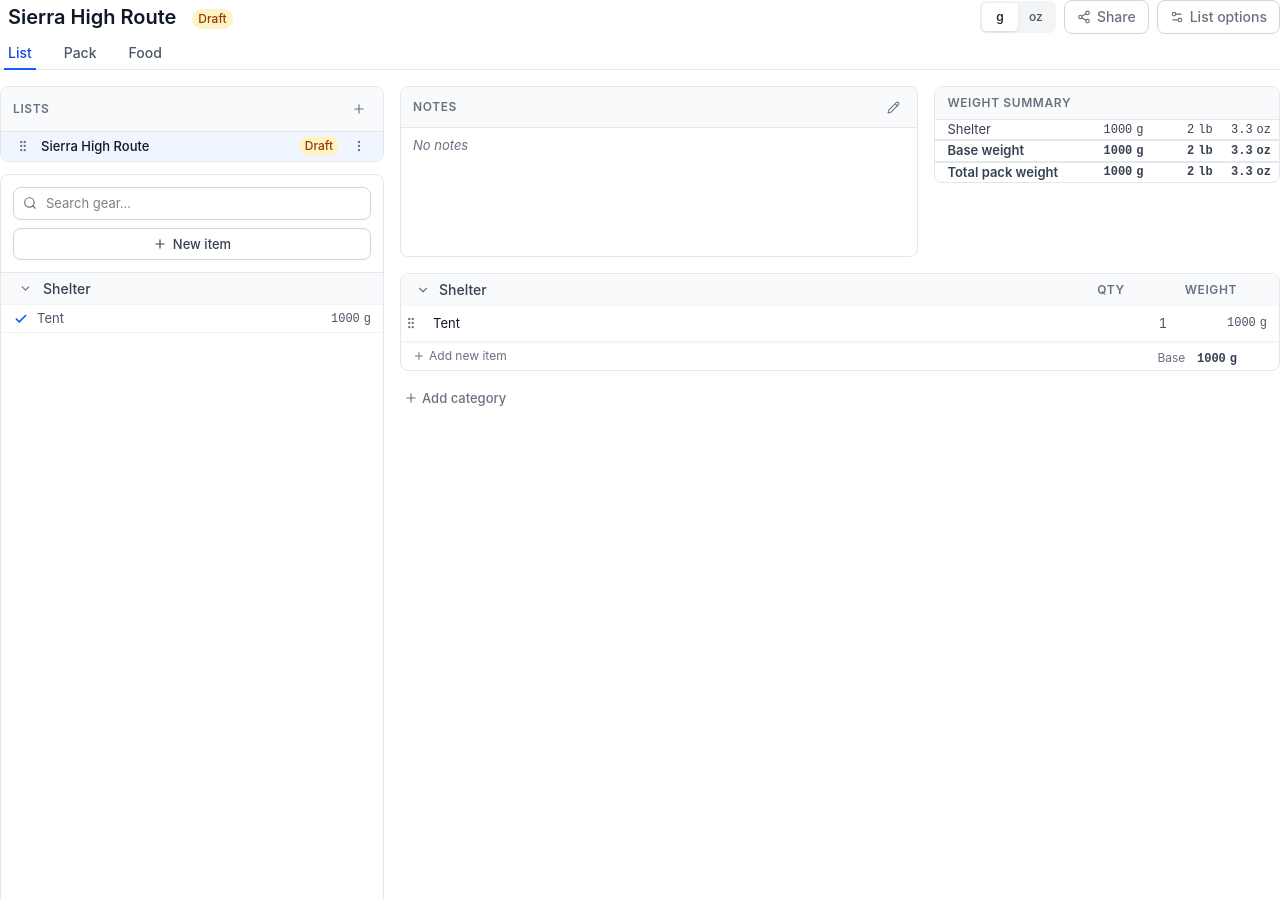
Test case: the phone row tap editor › opens the compact editor, not the inventory form, and More details reaches the full form
Click the button with aria-label "Edit Tent" at (446, 323), box 433,314 -> 1267,333
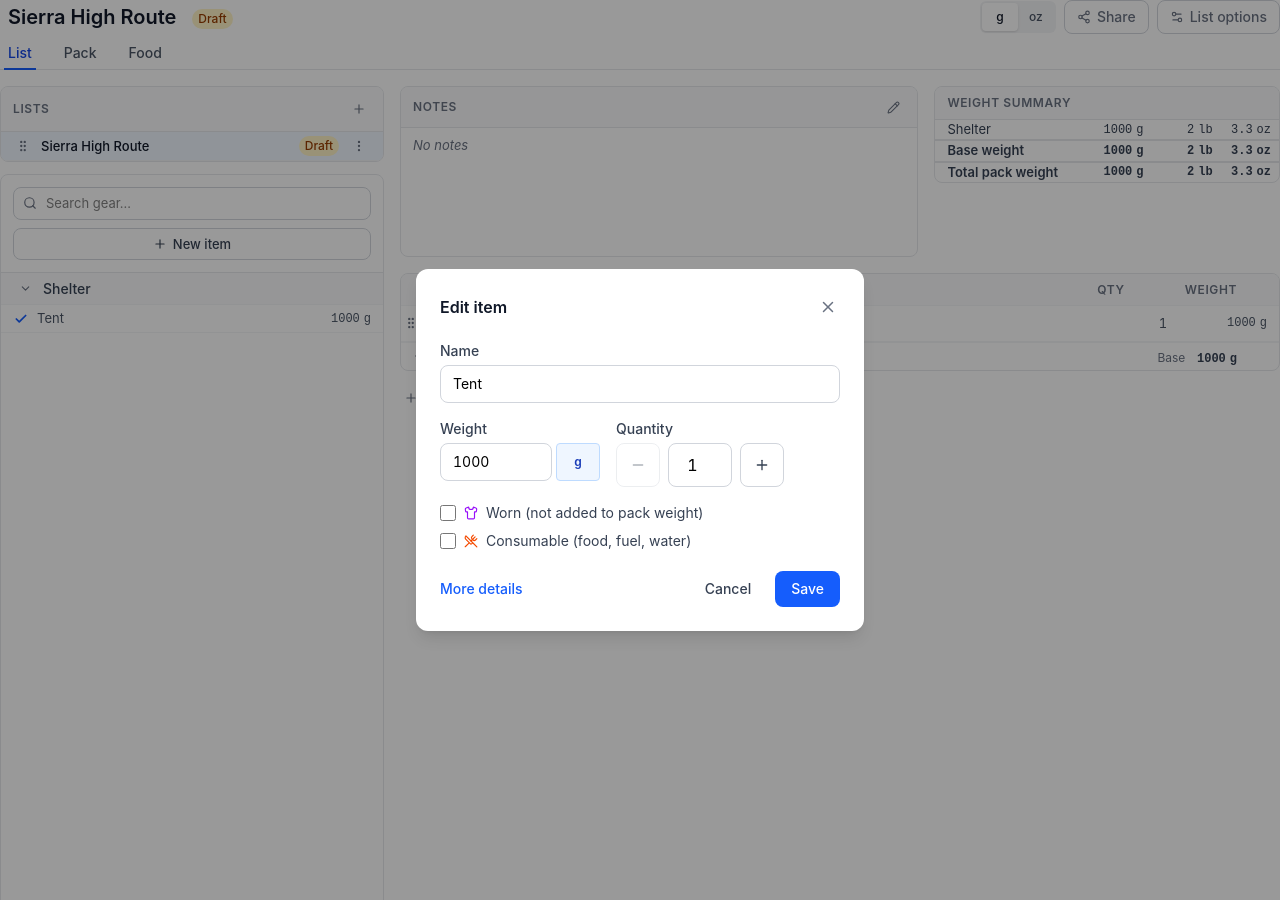
Now the heading "Edit item" is shown, box 440,295 -> 507,319
Now the number field labelled "Weight" is shown, box 440,443 -> 552,481
Now the number field labelled "Quantity" is shown, box 668,443 -> 732,487
Replace the text in the field labelled "Name" with "Tent 2P draft" at (640, 384), box 440,365 -> 840,403
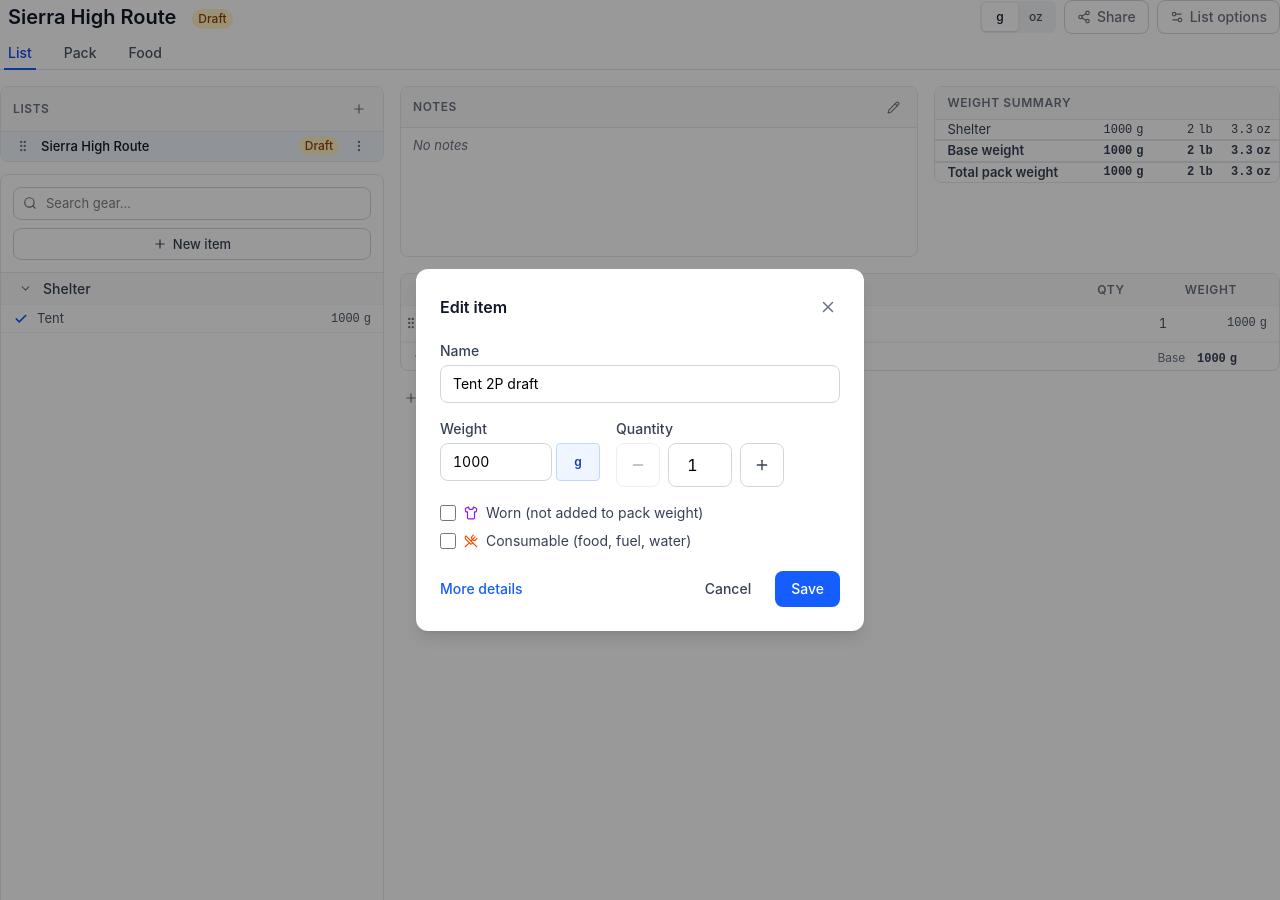
Click the button "More details" at (481, 589), box 440,579 -> 523,599
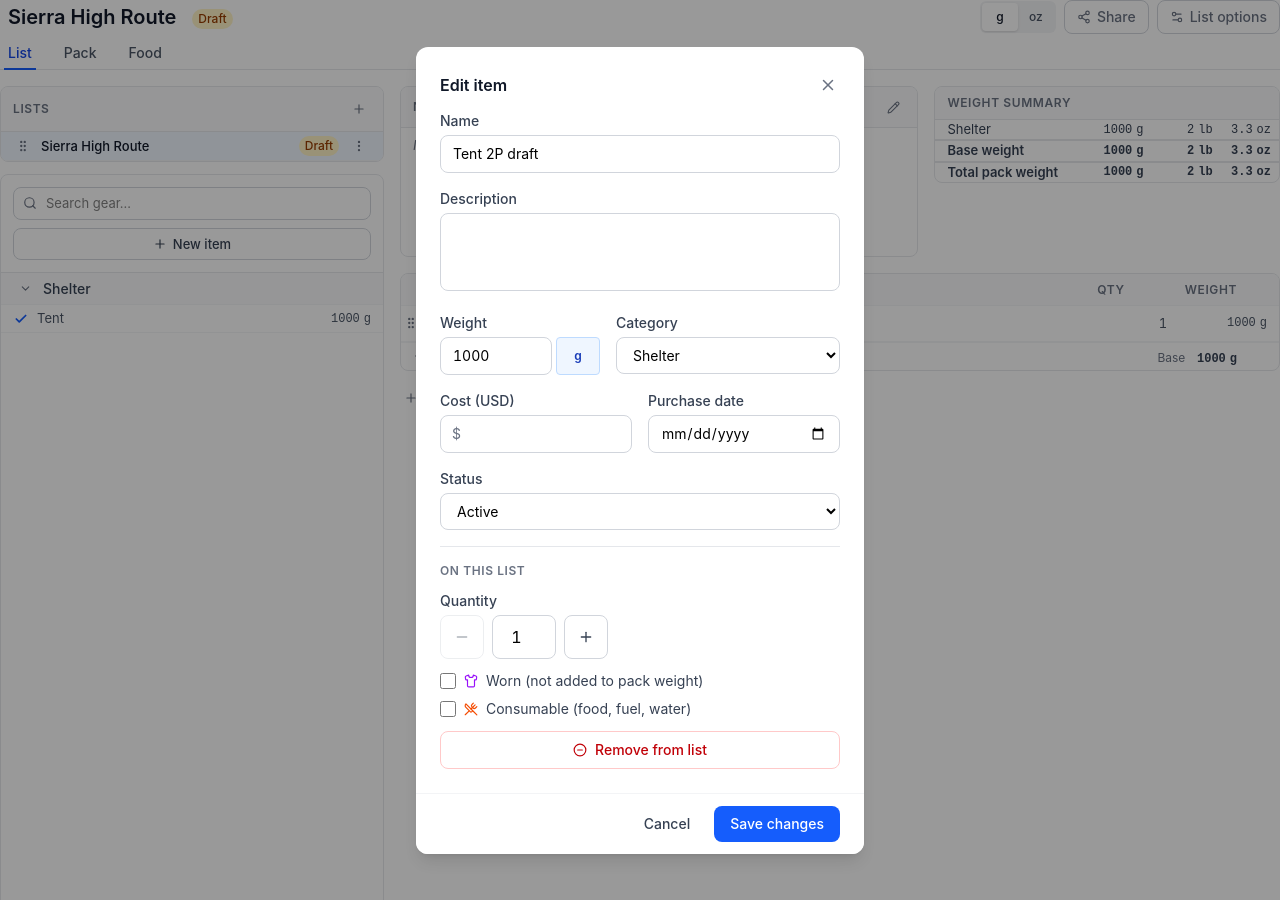
Now the number field labelled "Cost (USD)" is shown, box 440,414 -> 632,452
Now the field labelled "Name" holds "Tent 2P draft", box 440,134 -> 840,172
